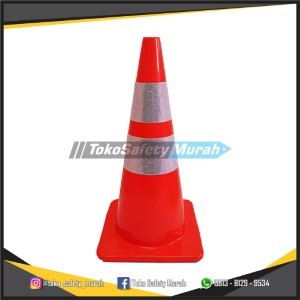traffic cone: (96, 37, 204, 263)
